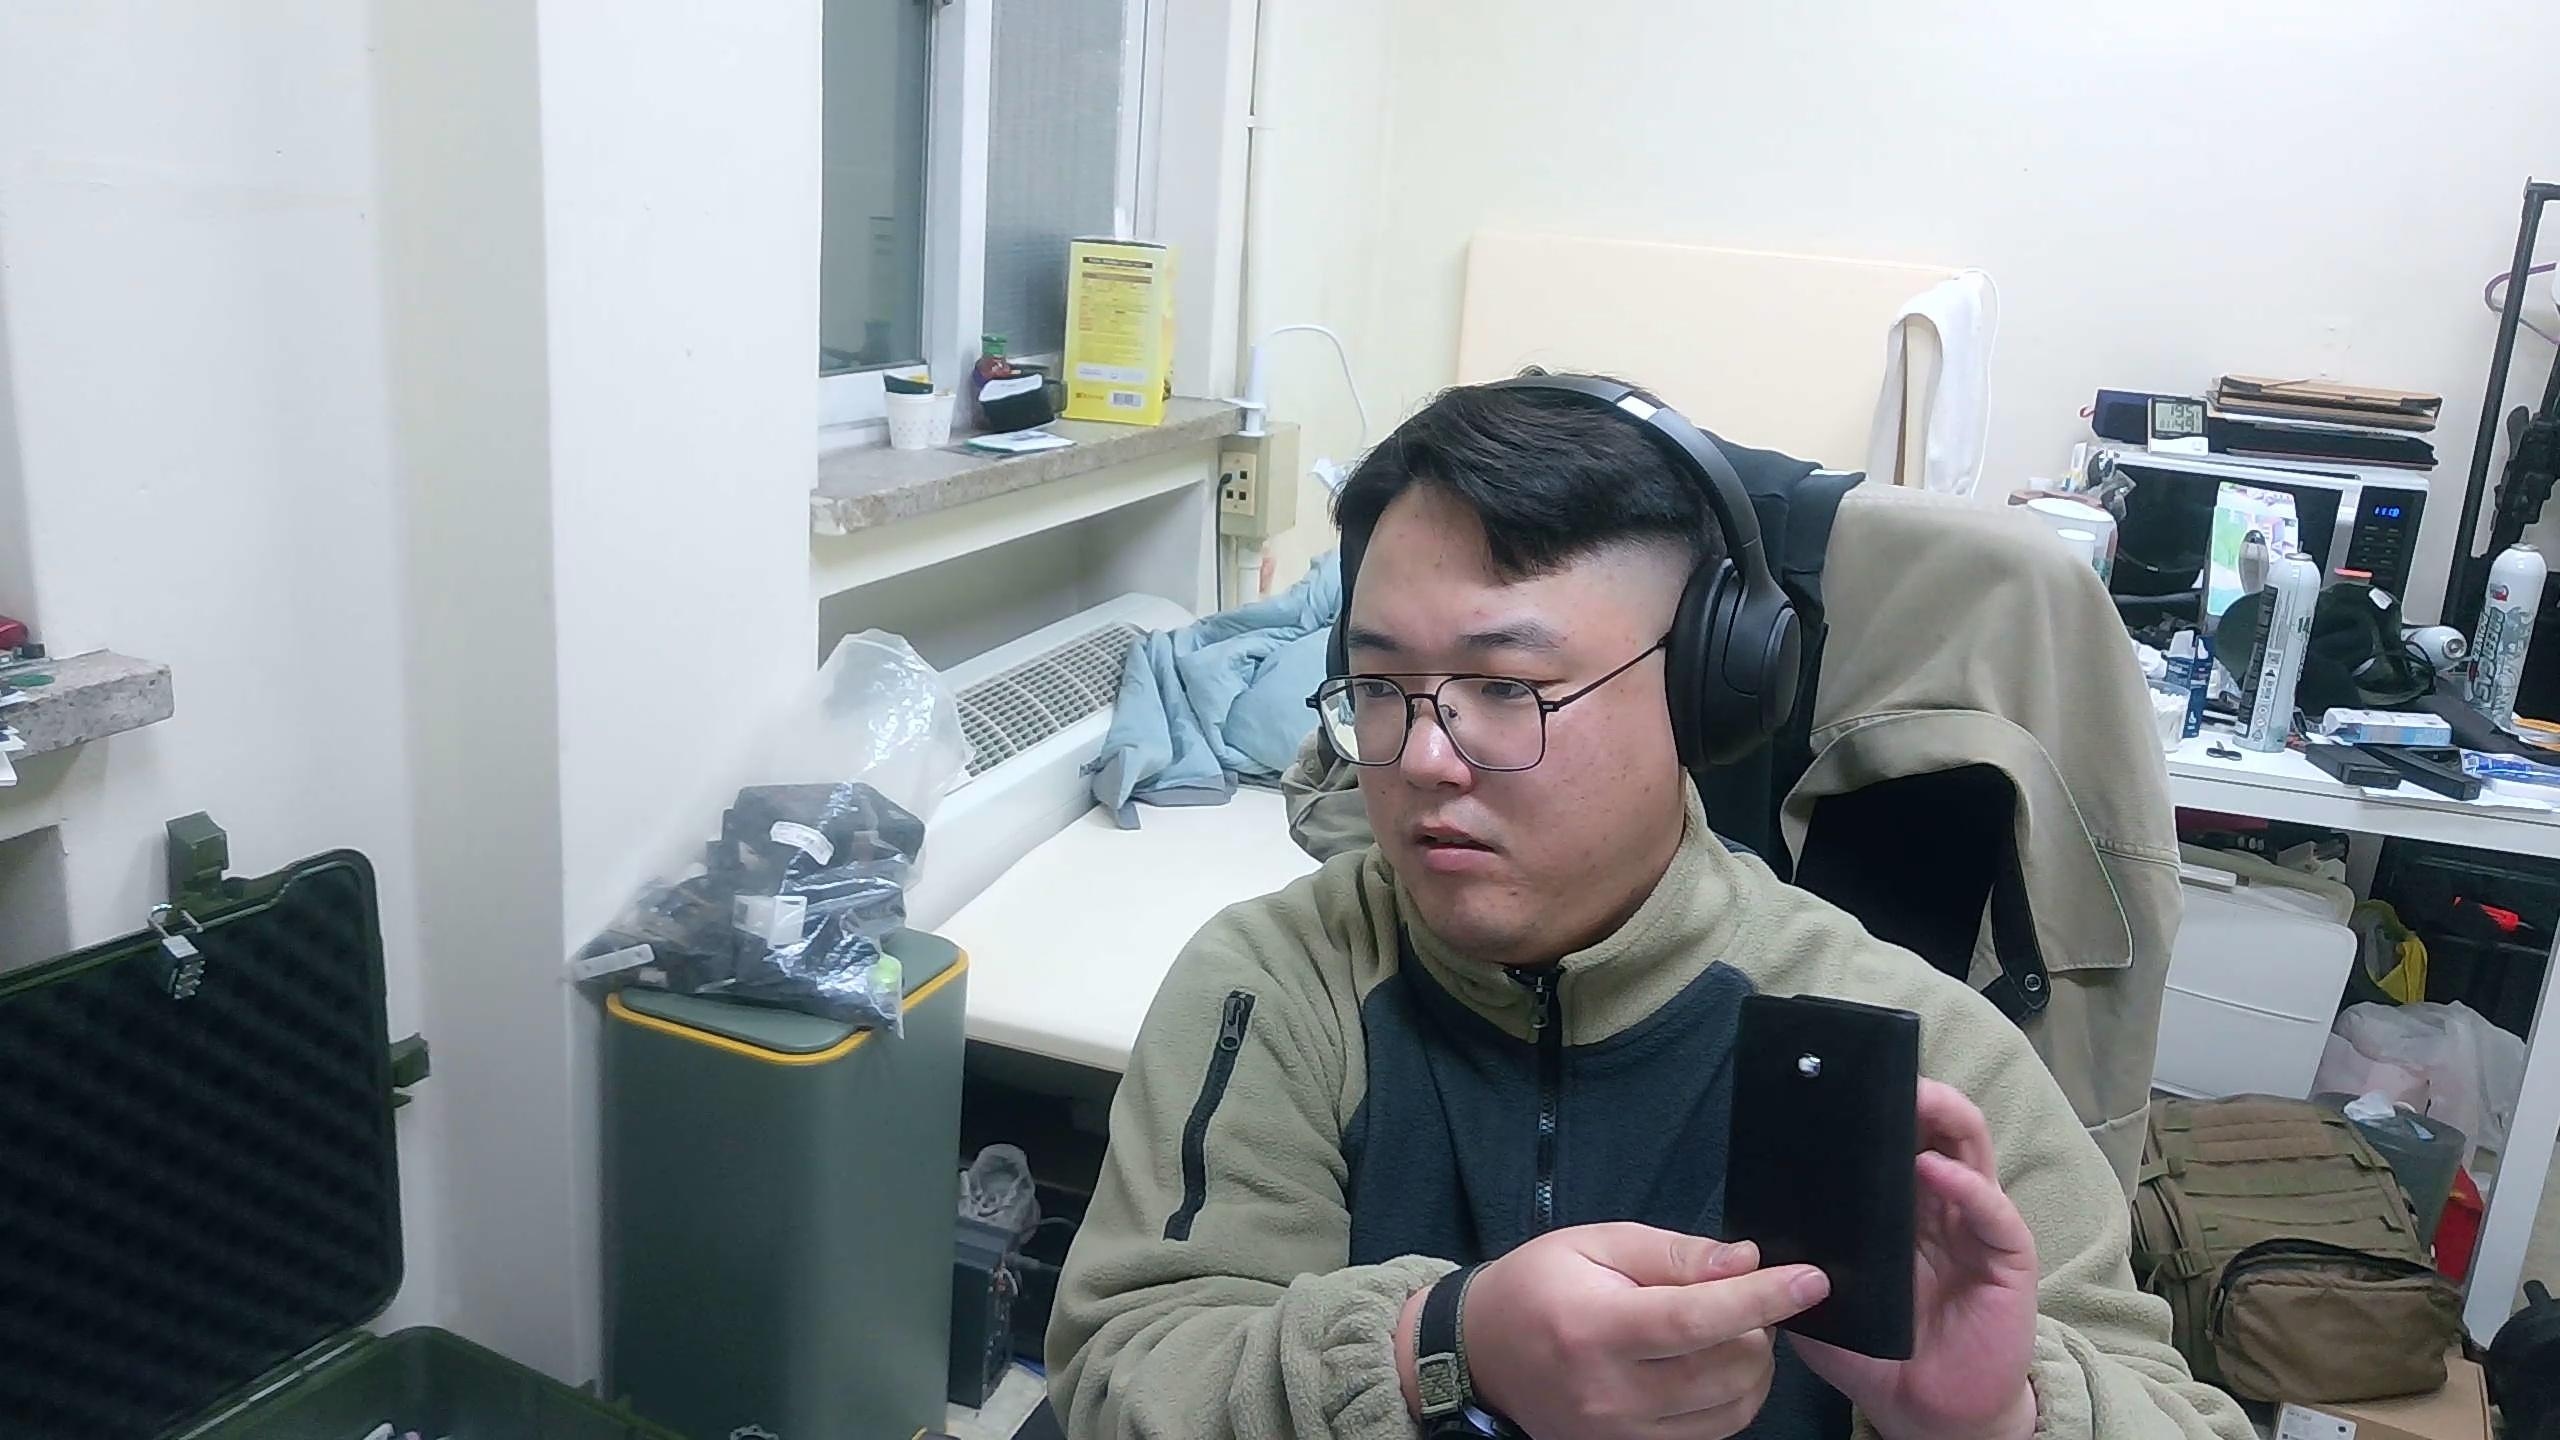earphone: (1725, 990, 1927, 1363)
